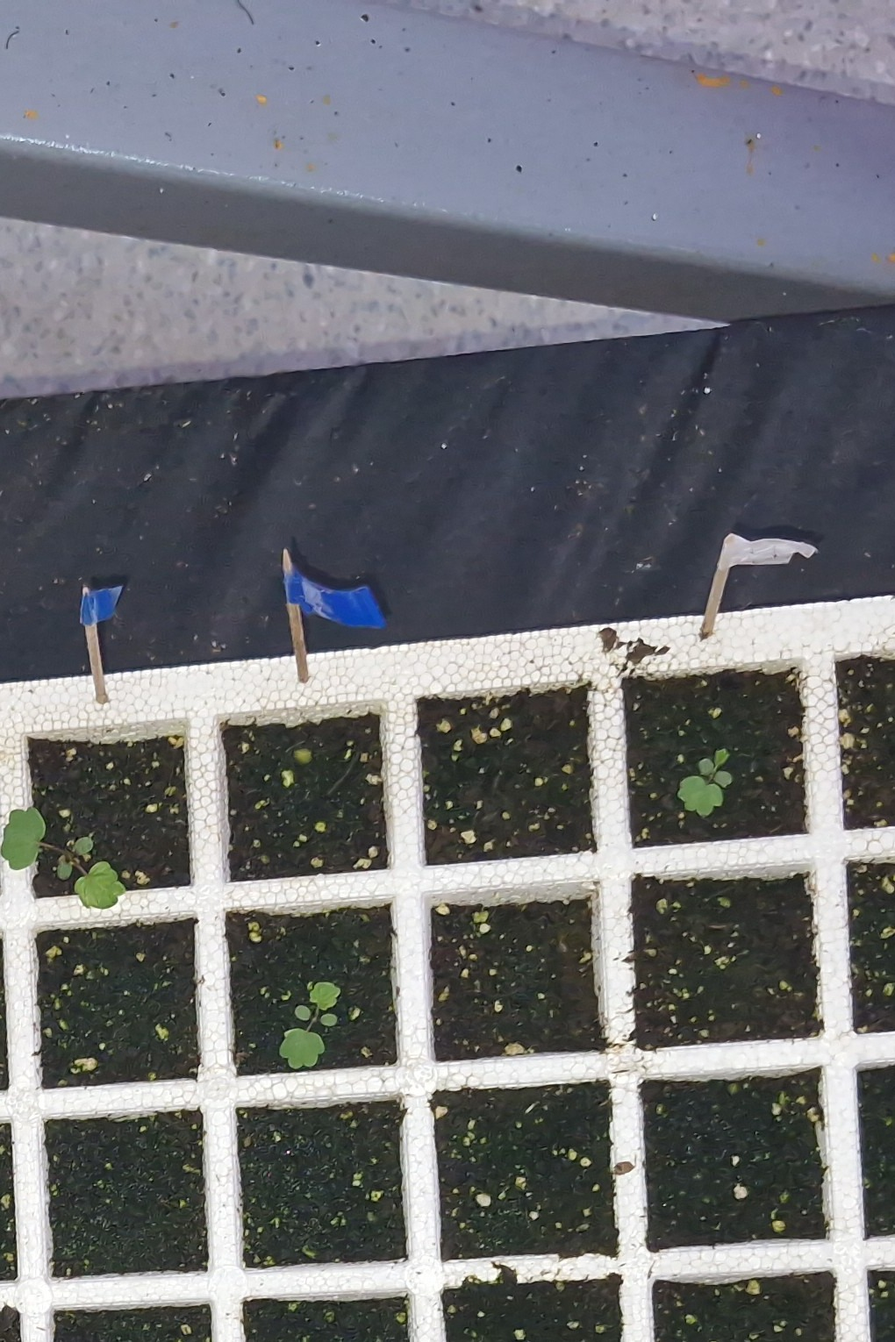Folha: (1, 807, 45, 869), (74, 861, 126, 909), (678, 776, 724, 817), (280, 1028, 325, 1068), (310, 982, 340, 1010), (75, 837, 93, 854), (714, 771, 731, 788), (57, 863, 72, 880), (715, 749, 730, 765), (295, 1005, 310, 1020), (700, 759, 714, 774), (321, 1014, 337, 1026)
Germinacao: (1, 807, 126, 909), (280, 982, 341, 1068), (678, 748, 732, 816)
